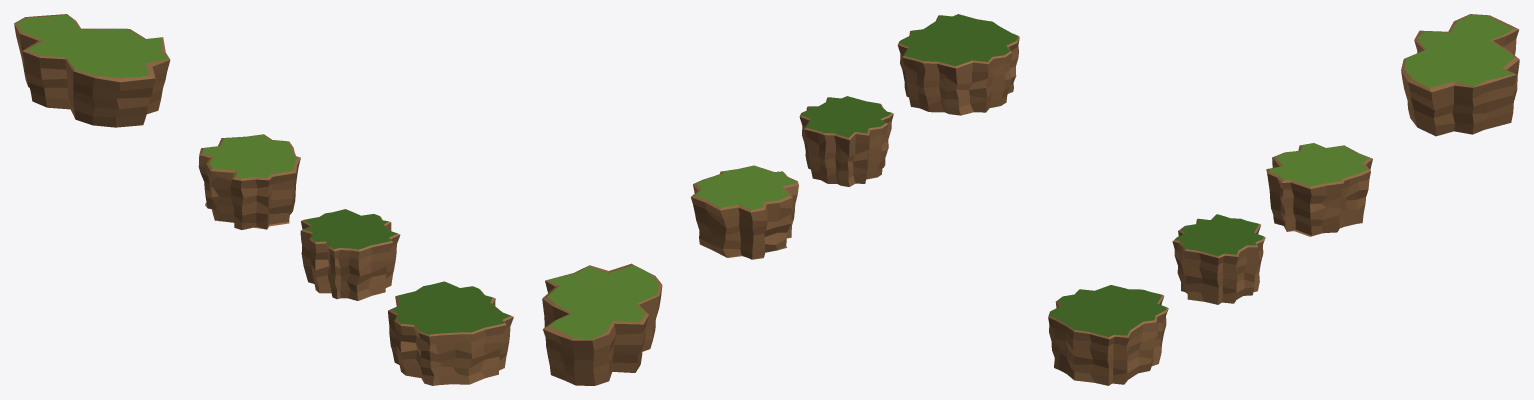
Rendered from cliffs-Pretty.glb.
The picture shows the model from 3 angles, left to right: view 1: azimuth 30°, elevation 25°; view 2: azimuth 150°, elevation 25°; view 3: azimuth 330°, elevation 25°; orthographic projection. The views are drawn at different scales.
Parts seen in each view (by area): view 1: Plane, Cube.001, Plane.001, Cube; view 2: Plane, Cube.001, Plane.001, Cube; view 3: Plane, Cube.001, Plane.001, Cube.
Part boxes in pixels (x1,y1,x2,y2): Plane: [14, 14, 170, 127]; Cube.001: [388, 281, 513, 385]; Plane.001: [198, 134, 300, 229]; Cube: [300, 209, 400, 300]; Plane: [542, 263, 662, 385]; Cube.001: [897, 14, 1019, 115]; Plane.001: [691, 165, 798, 259]; Cube: [799, 96, 893, 186]; Plane: [1401, 14, 1519, 136]; Cube.001: [1048, 285, 1168, 385]; Plane.001: [1266, 143, 1372, 236]; Cube: [1172, 214, 1265, 304].
Bounding box in the file's own units: 2.69 × 1.17 × 16.84.
Materials: 1 (1 with a texture image).
